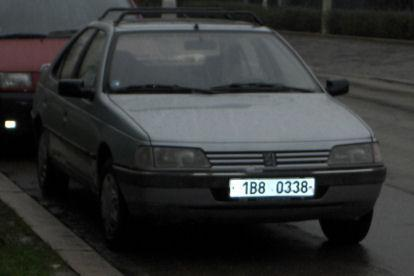placa de veiculo: (224, 172, 319, 204)
